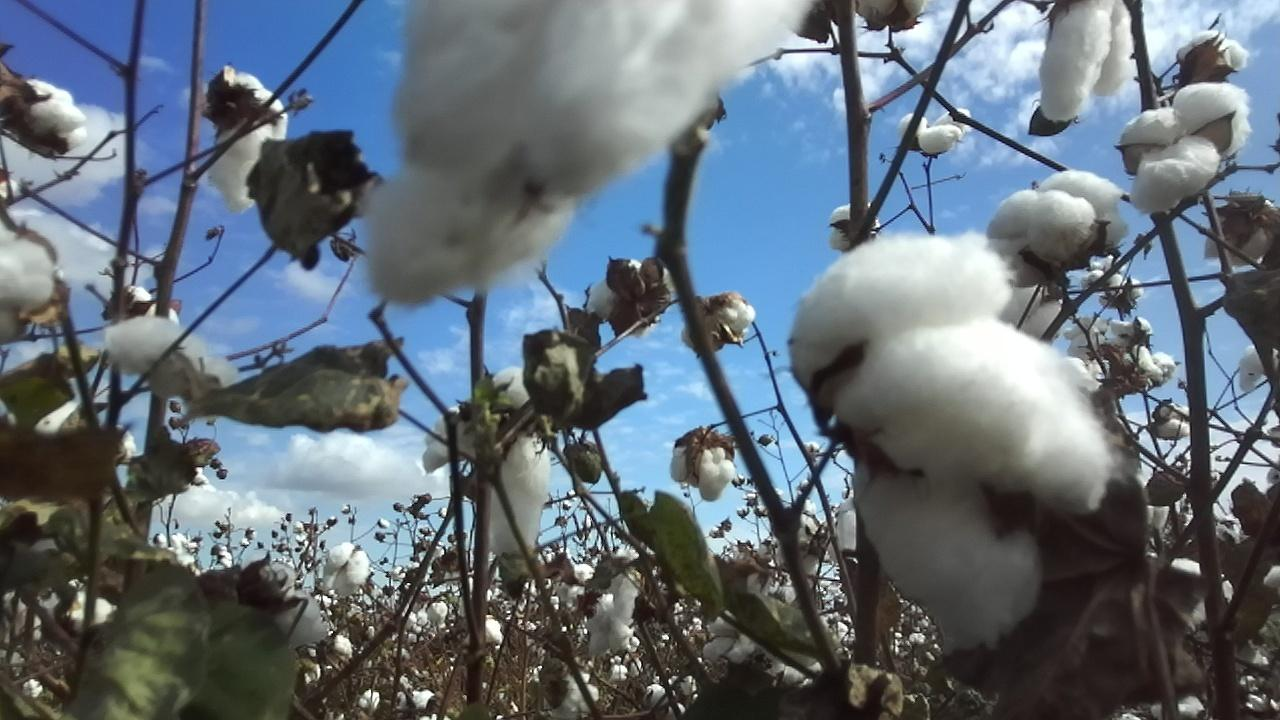cotton_ready: (785, 229, 1112, 659), (364, 0, 814, 304), (425, 365, 550, 557), (1120, 82, 1250, 211), (986, 169, 1129, 281), (1039, 0, 1136, 122), (212, 73, 292, 217), (107, 315, 239, 395), (249, 559, 332, 652), (0, 214, 55, 330), (584, 257, 677, 322), (13, 78, 89, 152), (992, 275, 1064, 342), (585, 573, 639, 659), (670, 441, 737, 504), (681, 297, 755, 351), (1177, 29, 1247, 85), (701, 612, 764, 672), (904, 110, 972, 157), (828, 202, 882, 259), (321, 543, 370, 595), (854, 0, 925, 30)
